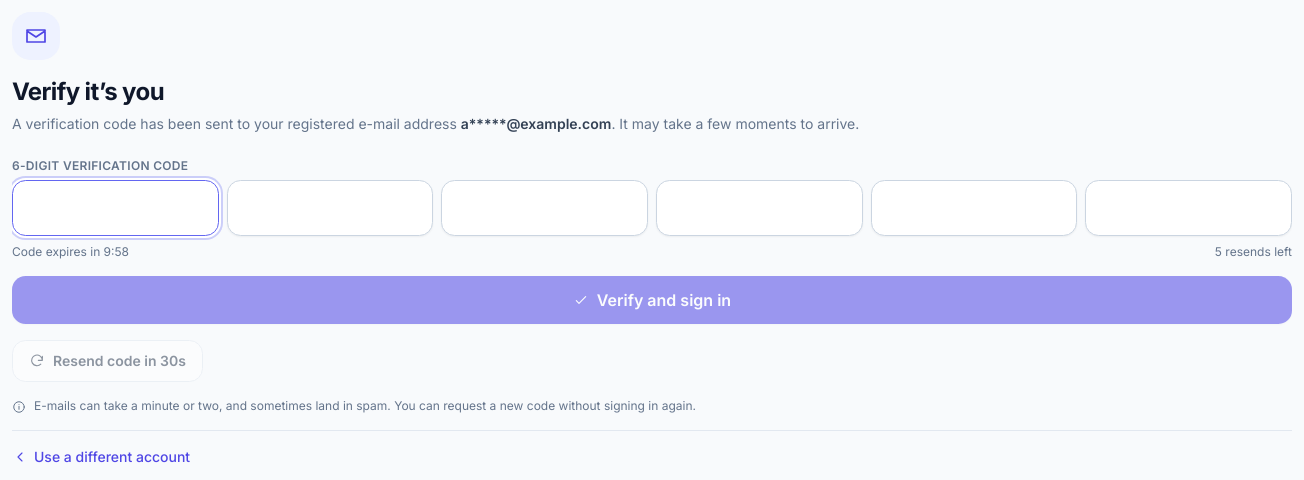
Test: LoginVerification › moves to the restart state when the verification session is gone
The width and height of the screenshot is (1304, 480).
Type "123456" into the field named "Digit 1 of 6" at {"x": 115, "y": 208}, box [12, 180, 219, 236]
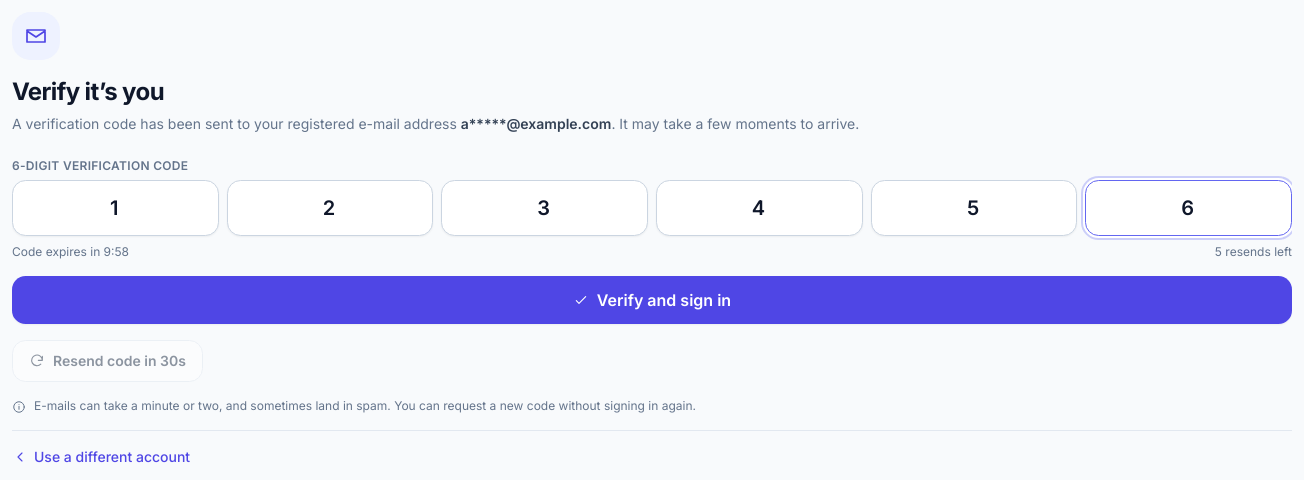
Click the button "Verify and sign in" at {"x": 652, "y": 300}, box [12, 276, 1292, 324]
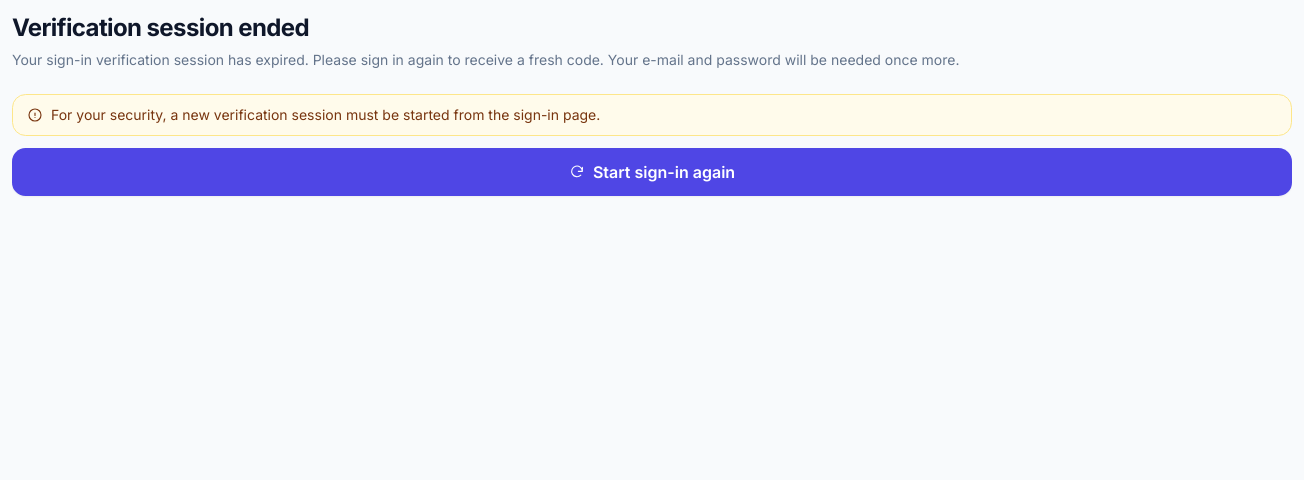
Expected: the heading "Verification session ended" is shown, [12, 13, 309, 42]
Expected: the button "Start sign-in again" is shown, [12, 148, 1292, 196]
